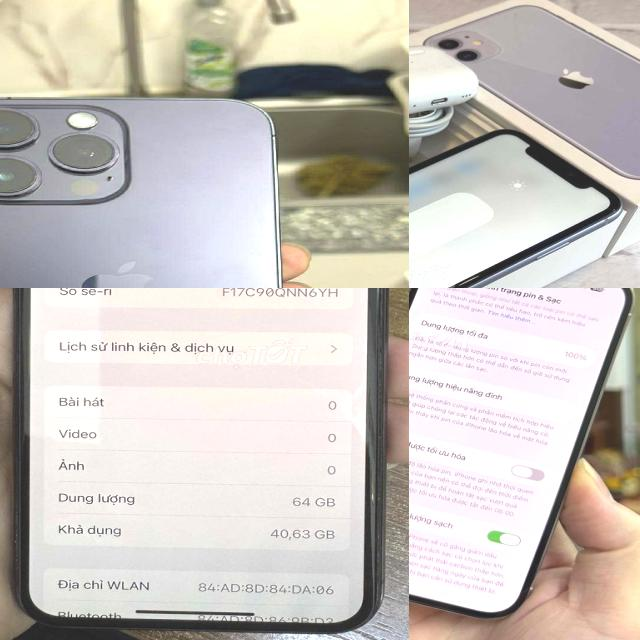gen_11: (14, 288, 387, 632), (409, 118, 627, 288)
gen_14: (409, 288, 640, 621)
gen_15: (0, 93, 292, 288)
